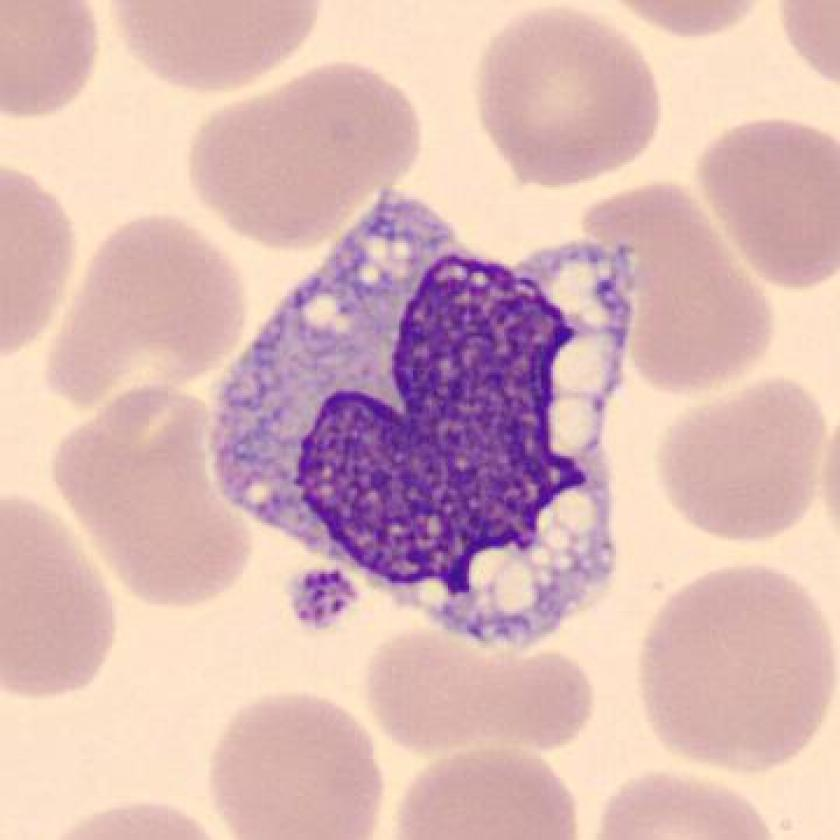monocyte: (190, 161, 664, 684)
